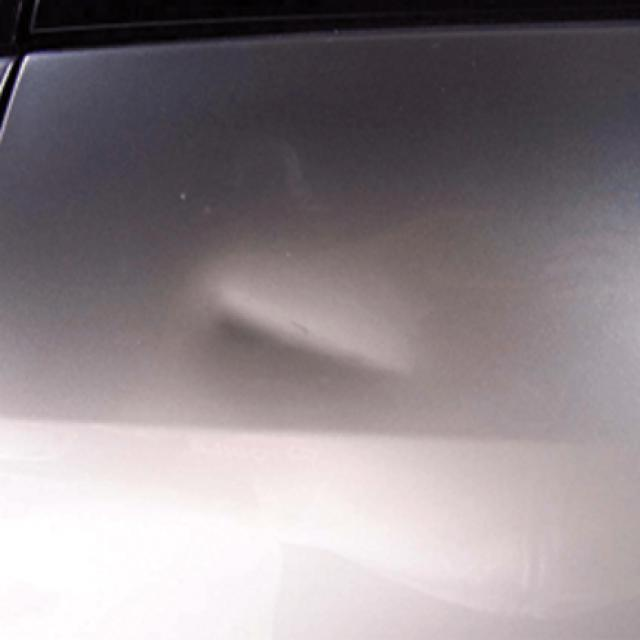dents: (137, 255, 453, 436)
